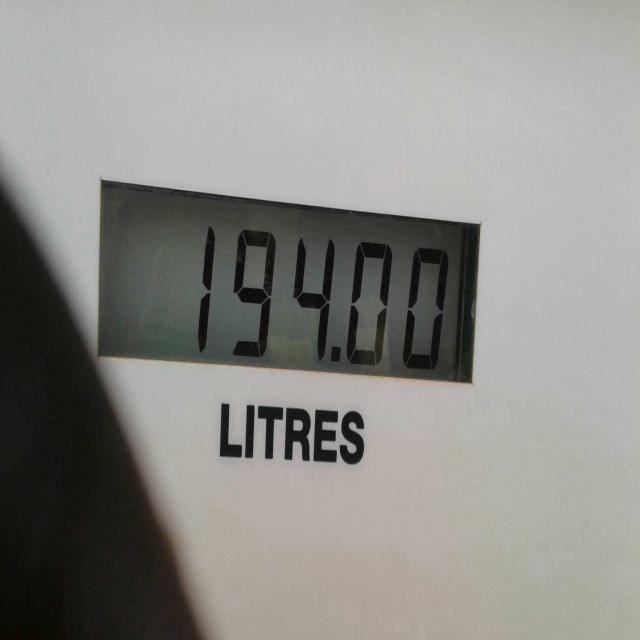.: (326, 328, 346, 376)
0: (399, 235, 454, 380), (346, 232, 394, 376)
1: (184, 220, 234, 360)
4: (283, 228, 334, 363)
9: (227, 220, 275, 366)
